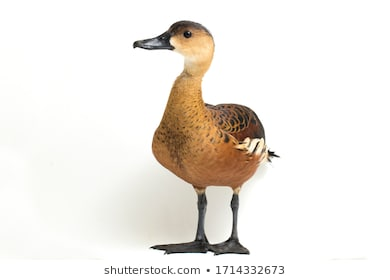duck: (115, 9, 291, 262)
